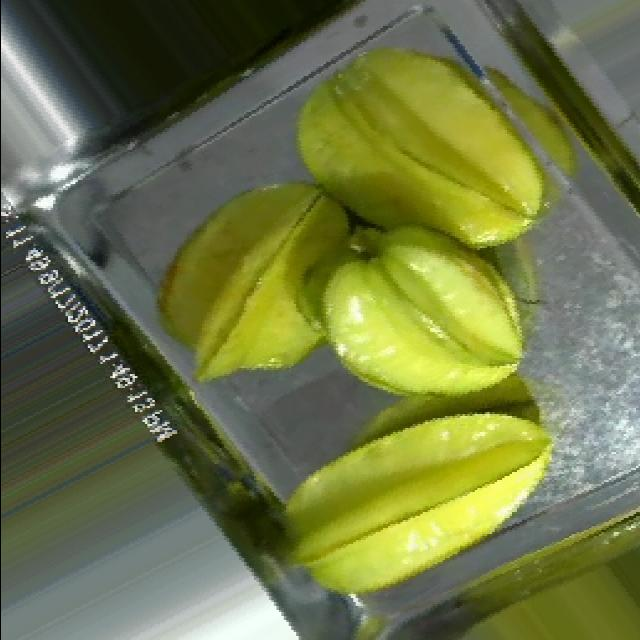fruit: (248, 2, 586, 304), (109, 136, 409, 432), (240, 368, 576, 628), (266, 194, 568, 466)
